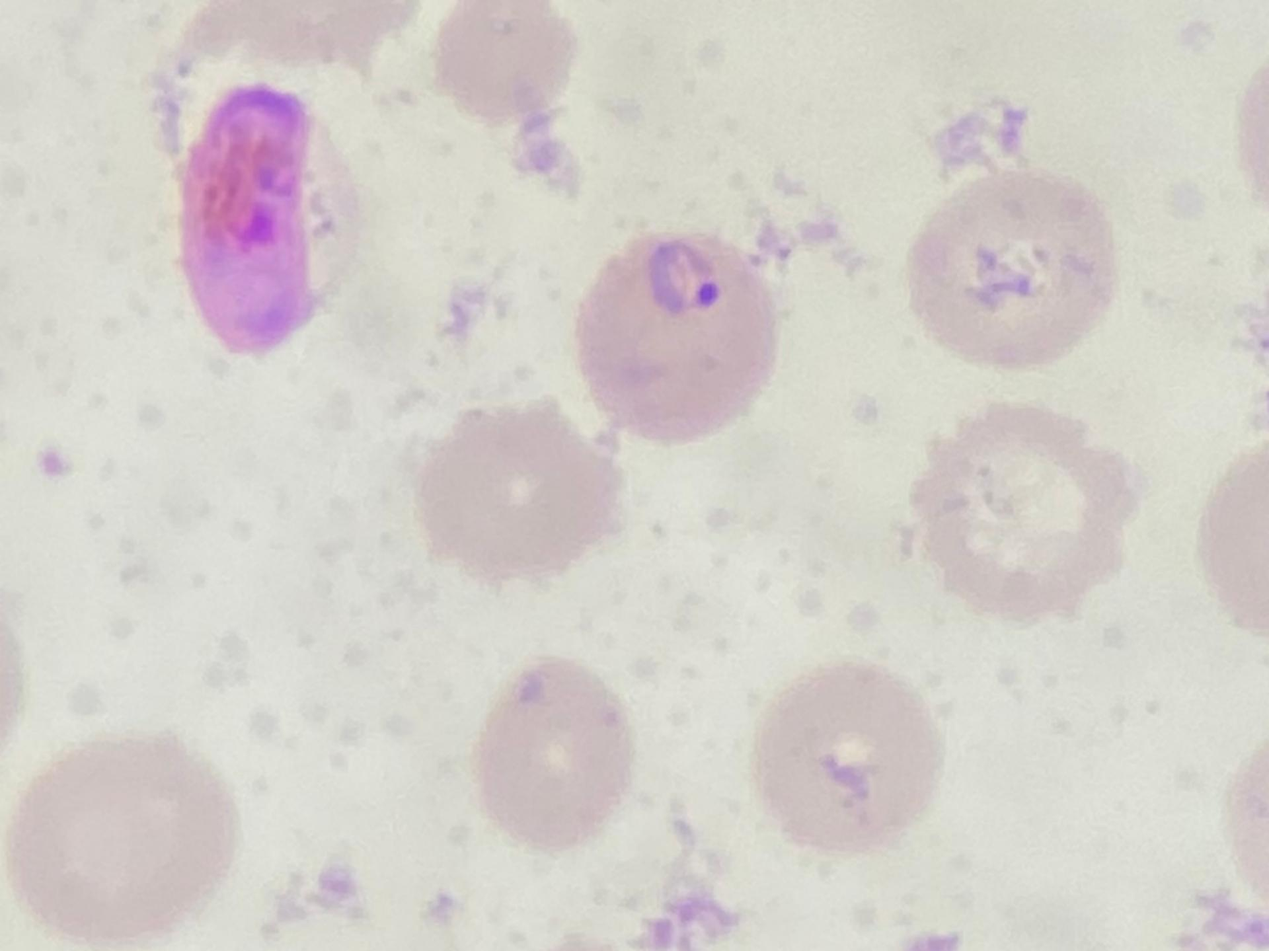Infected: (181, 84, 366, 354), (577, 225, 784, 443)
Uninfected: (11, 732, 238, 946), (914, 395, 1134, 611), (912, 173, 1119, 364), (753, 662, 947, 863), (412, 402, 620, 584), (476, 657, 634, 847)
